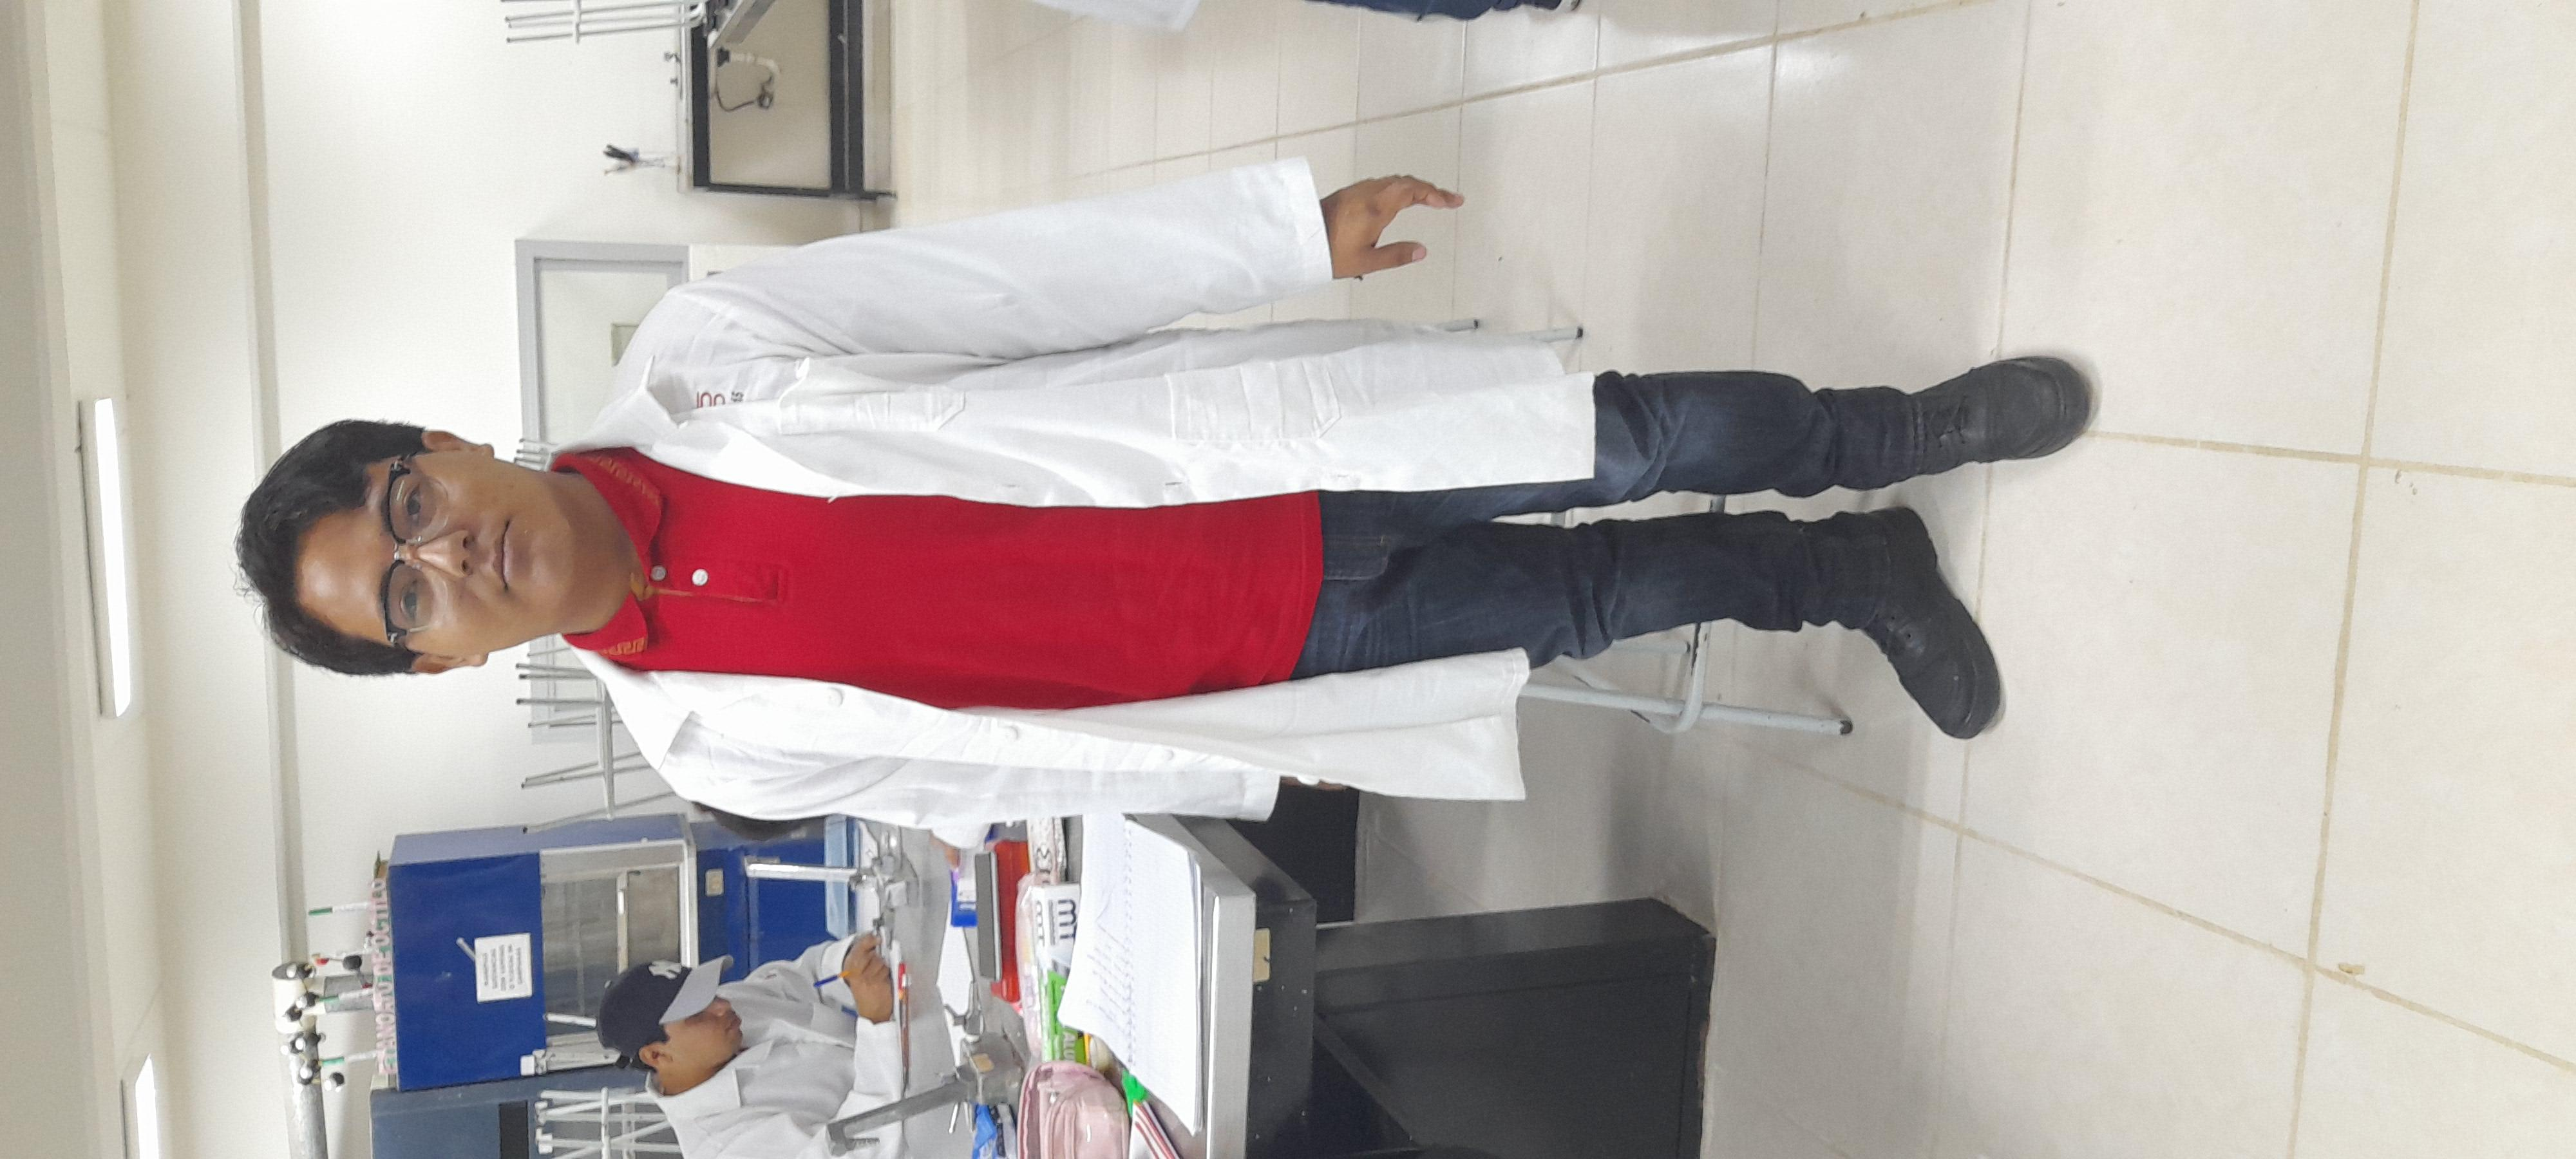Bata-Incorrecta: (744, 107, 2218, 941)
